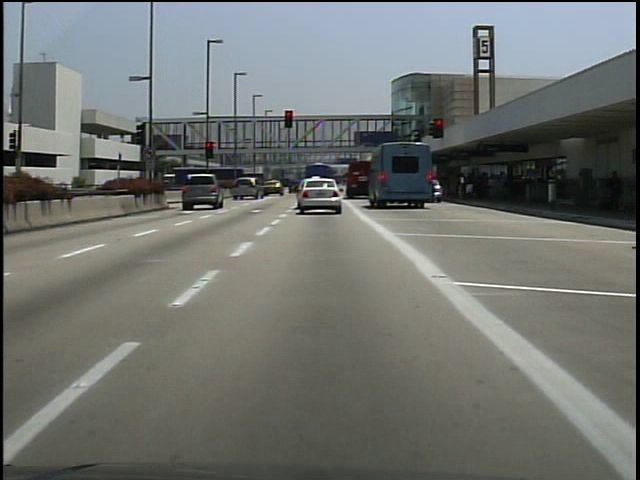person: (605, 167, 624, 221)
